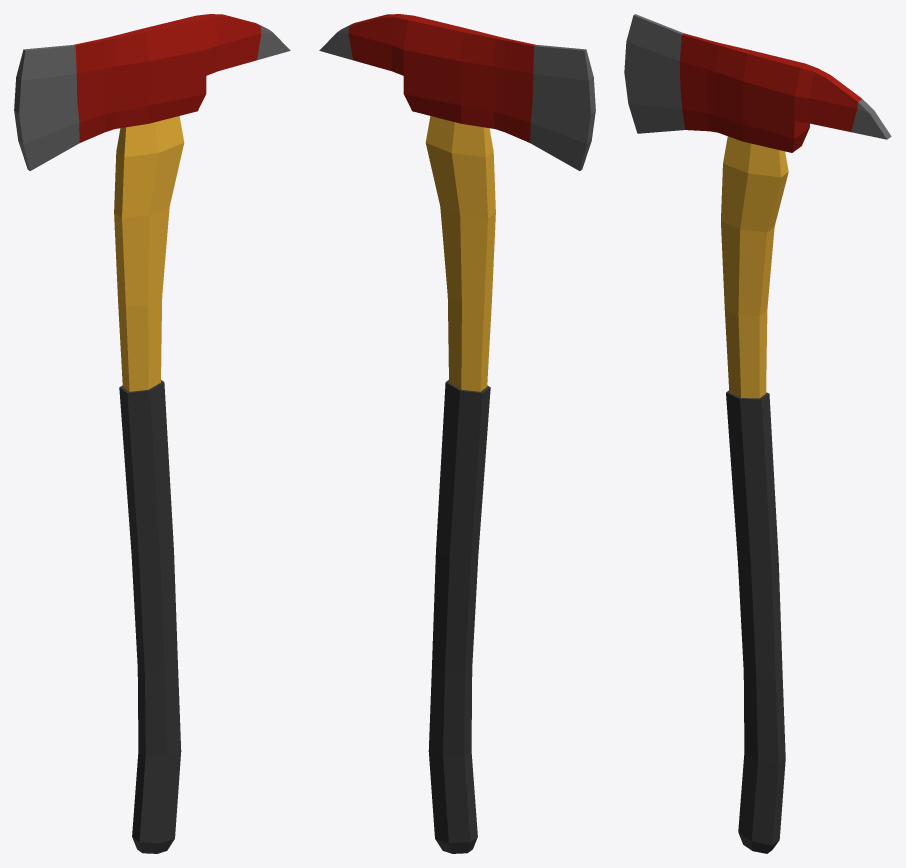
File: FireAxe.fbx
3 views of the same model, side by side, from view 1: azimuth 30°, elevation 25°; view 2: azimuth 150°, elevation 25°; view 3: azimuth 330°, elevation 25° (orthographic). The views are drawn at different scales.
Parts seen in each view (by area): view 1: Cube; view 2: Cube; view 3: Cube.
Boxes of the visible parts, x1,y1,x2,y2 form: Cube: (14, 14, 290, 853); Cube: (319, 14, 595, 853); Cube: (624, 14, 891, 853).
Size of the model in its own units: 321 by 939 by 32.95.
Materials: 1 (1 with a texture image).
